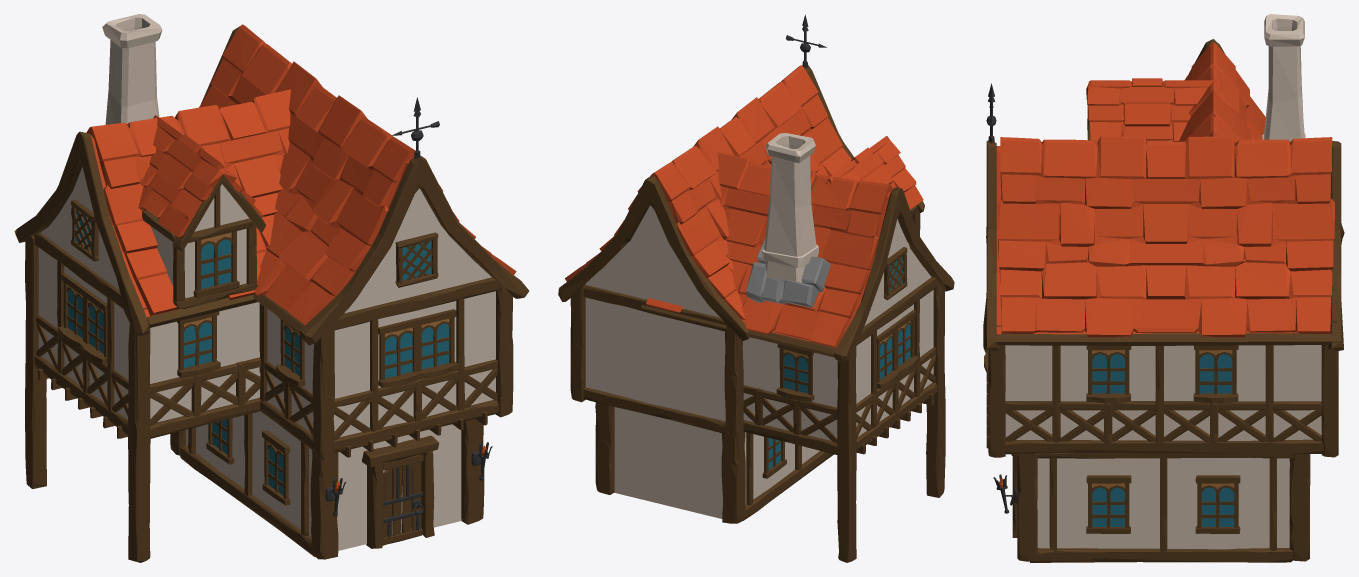
File: SM_house_02.fbx
The picture shows the model from 3 angles, left to right: view 1: azimuth 30°, elevation 25°; view 2: azimuth 150°, elevation 25°; view 3: azimuth 270°, elevation 25°; orthographic projection. The views are drawn at different scales.
Visible parts, largest first — view 1: Object32400; view 2: Object32400; view 3: Object32400.
Part boxes in pixels (x1,y1,x2,y2): Object32400: (14,14,529,562); Object32400: (558,14,954,562); Object32400: (983,14,1344,562).
Bounding box in the file's own units: 345 × 448 × 330.
